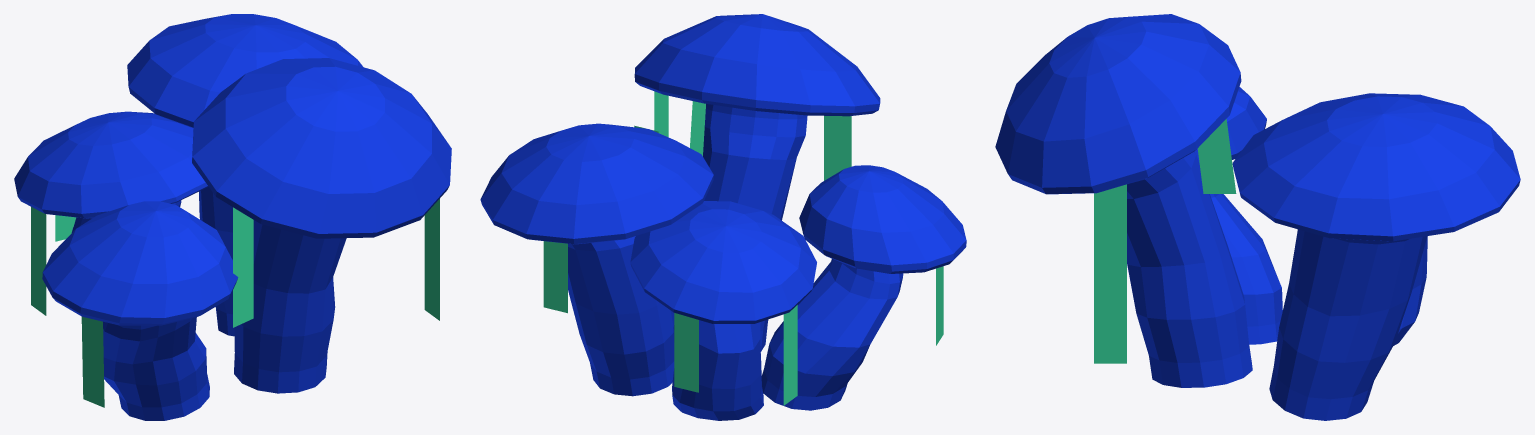
File: mushroom.fbx
The picture shows the model from 3 angles, left to right: view 1: azimuth 30°, elevation 25°; view 2: azimuth 150°, elevation 25°; view 3: azimuth 270°, elevation 25°; orthographic projection. The views are drawn at different scales.
Parts seen in each view (by area): view 1: Cylinder.008, Plane.012, Plane.020, Plane.011, Plane.019, Plane.018; view 2: Cylinder.008, Plane.018, Plane.015, Plane.012, Plane.019, Plane.013, Plane.011, Plane.020; view 3: Cylinder.008, Plane.011, Plane.013.
Part boxes in pixels (box(x1,y1,x2,y2)): Cylinder.008: box(14, 14, 451, 420); Plane.012: box(233, 207, 253, 327); Plane.020: box(81, 316, 104, 407); Plane.011: box(424, 199, 439, 320); Plane.019: box(31, 207, 46, 315); Plane.018: box(55, 215, 76, 241); Cylinder.008: box(480, 14, 966, 420); Plane.018: box(674, 313, 698, 392); Plane.015: box(543, 241, 567, 313); Plane.012: box(824, 116, 851, 180); Plane.019: box(783, 305, 797, 405); Plane.013: box(690, 101, 705, 156); Plane.011: box(654, 91, 668, 137); Plane.020: box(936, 266, 943, 345); Cylinder.008: box(995, 14, 1520, 420); Plane.011: box(1094, 184, 1126, 363); Plane.013: box(1197, 119, 1236, 193).
Bounding box in the file's own units: 275 × 225 × 293.
